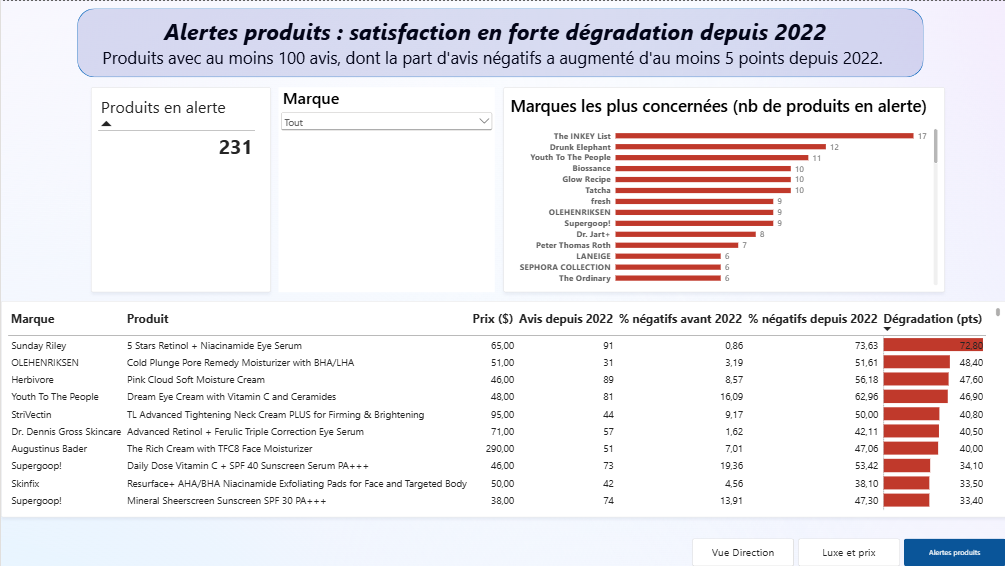

The dashboard page shown, as its layout file describes it:
{"tool":"powerbi","page":{"name":"Alertes produits","canvas":[1920,1080],"ordinal":2},"visuals":[{"type":"textbox","box":[172,27.8,1542.7,98.6],"z":0},{"type":"textbox","box":[192.2,86,1613.5,78.4],"z":1000},{"type":"tableEx","fields":{"Values":["v_produits_a_surveiller.product_id"]},"box":[171.8,164.6,343.5,391.3],"z":2000},{"type":"tableEx","fields":{"Values":["v_produits_a_surveiller.brand_name","v_produits_a_surveiller.product_name","v_produits_a_surveiller.price_usd","v_produits_a_surveiller.nb_avis_recents","v_produits_a_surveiller.pct_neg_historique","v_produits_a_surveiller.pct_neg_recent","v_produits_a_surveiller.degradation_points"]},"box":[0,572.6,1920.5,412.7],"z":3000},{"type":"slicer","fields":{"Values":["v_produits_a_surveiller.brand_name"]},"box":[529.6,164.6,412.7,391.3],"z":3001},{"type":"pageNavigator","box":[1320.1,1026.8,599.4,53.1],"z":3002},{"type":"clusteredBarChart","title":"Marques les plus concernées (nb de produits en alerte)","fields":{"Category":["v_produits_a_surveiller.brand_name"],"Y":["CountNonNull(v_produits_a_surveiller.product_id)"]},"box":[959,164.6,842.2,391.3],"z":3003},{"type":"shape","box":[145.5,14.3,1615.1,131.2],"z":3004}]}

Visuals, with their boxes in screenshot pixels (x1, y1, x2, y2), scaled from the page's 1920x1080 canvas onto the 1005x566 screenshot:
textbox: x1=90, y1=15, x2=898, y2=66
textbox: x1=101, y1=45, x2=945, y2=86
tableEx - v_produits_a_surveiller.product_id: x1=90, y1=86, x2=270, y2=291
tableEx - v_produits_a_surveiller.brand_name x v_produits_a_surveiller.product_name: x1=0, y1=300, x2=1004, y2=516
slicer - v_produits_a_surveiller.brand_name: x1=277, y1=86, x2=493, y2=291
pageNavigator: x1=691, y1=538, x2=1004, y2=565
"Marques les plus concernées (nb de produits en alerte)" clusteredBarChart: x1=502, y1=86, x2=943, y2=291
shape: x1=76, y1=7, x2=922, y2=76
